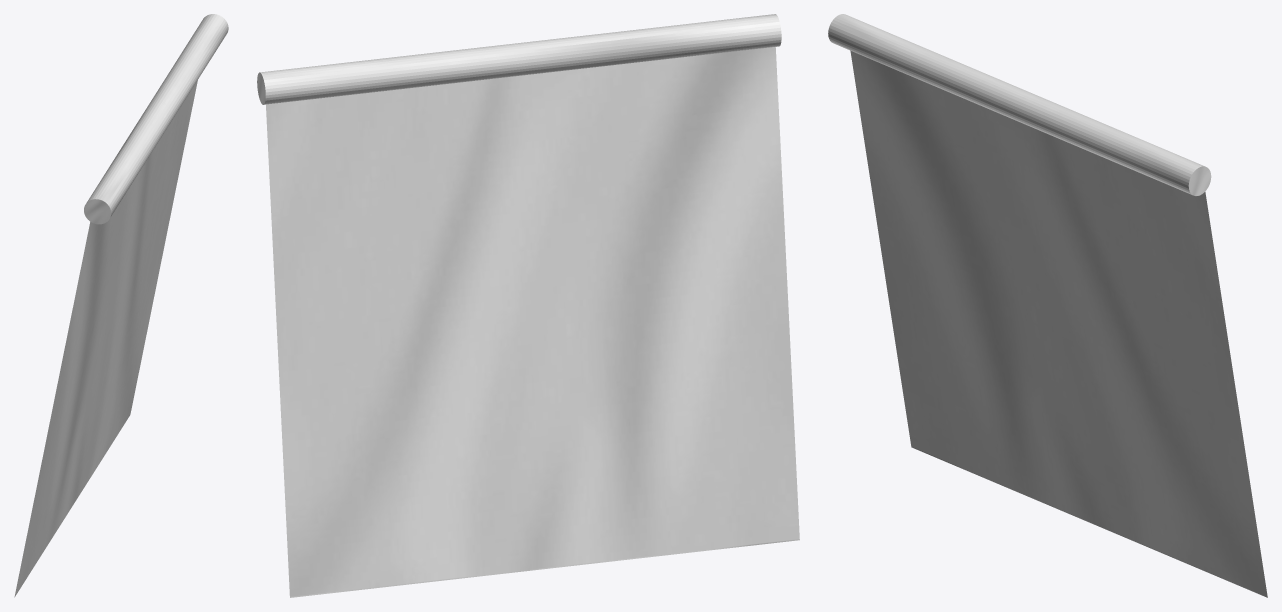
File: tubo_banner.obj
3 views of the same model, side by side, from view 1: azimuth 30°, elevation 25°; view 2: azimuth 150°, elevation 25°; view 3: azimuth 270°, elevation 25° (orthographic). The views are drawn at different scales.
Parts seen in each view (by area): view 1: Plane.001, Cylinder; view 2: Plane.001, Cylinder; view 3: Plane.001, Cylinder.
Part boxes in pixels (bbox=[...]): Plane.001: bbox=[14, 80, 197, 597]; Cylinder: bbox=[84, 14, 228, 224]; Plane.001: bbox=[266, 47, 799, 597]; Cylinder: bbox=[257, 14, 781, 104]; Plane.001: bbox=[850, 50, 1267, 597]; Cylinder: bbox=[828, 14, 1211, 195].
Size of the model in its own units: 3.59 by 4.17 by 3.6.
